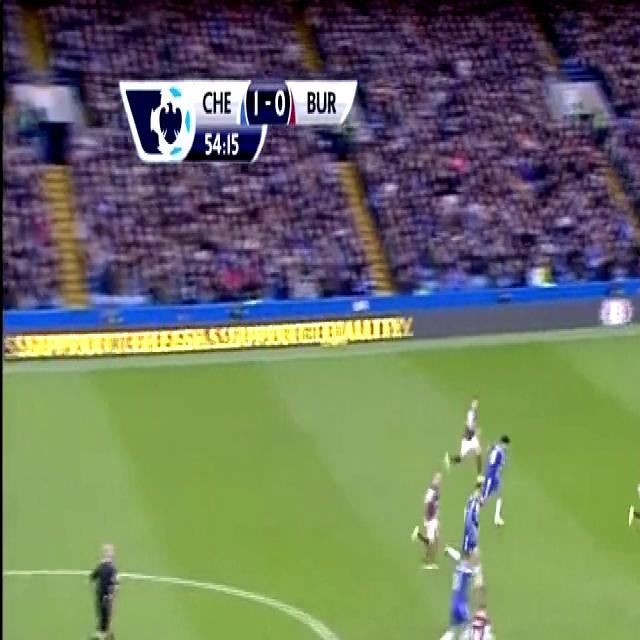referee: (71, 528, 125, 640)
soccer-player: (445, 466, 492, 594), (406, 456, 448, 578), (472, 419, 514, 532), (427, 551, 478, 640), (442, 379, 482, 468), (620, 423, 640, 557), (453, 597, 497, 640)
